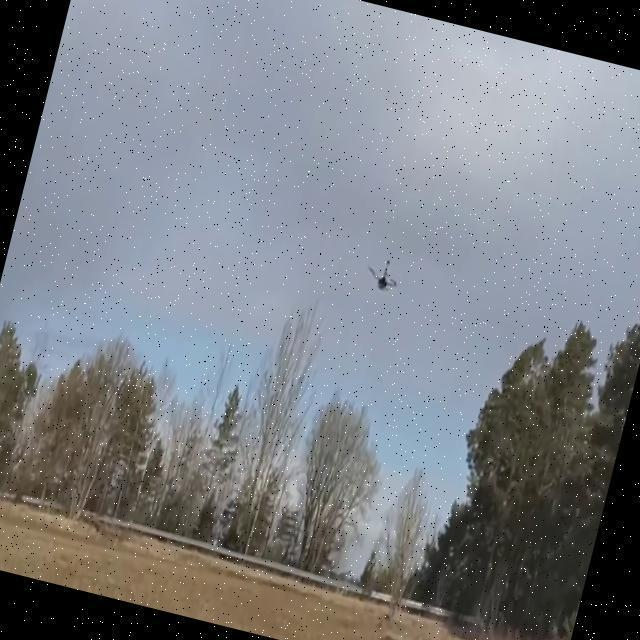Drons: (360, 252, 404, 297)
